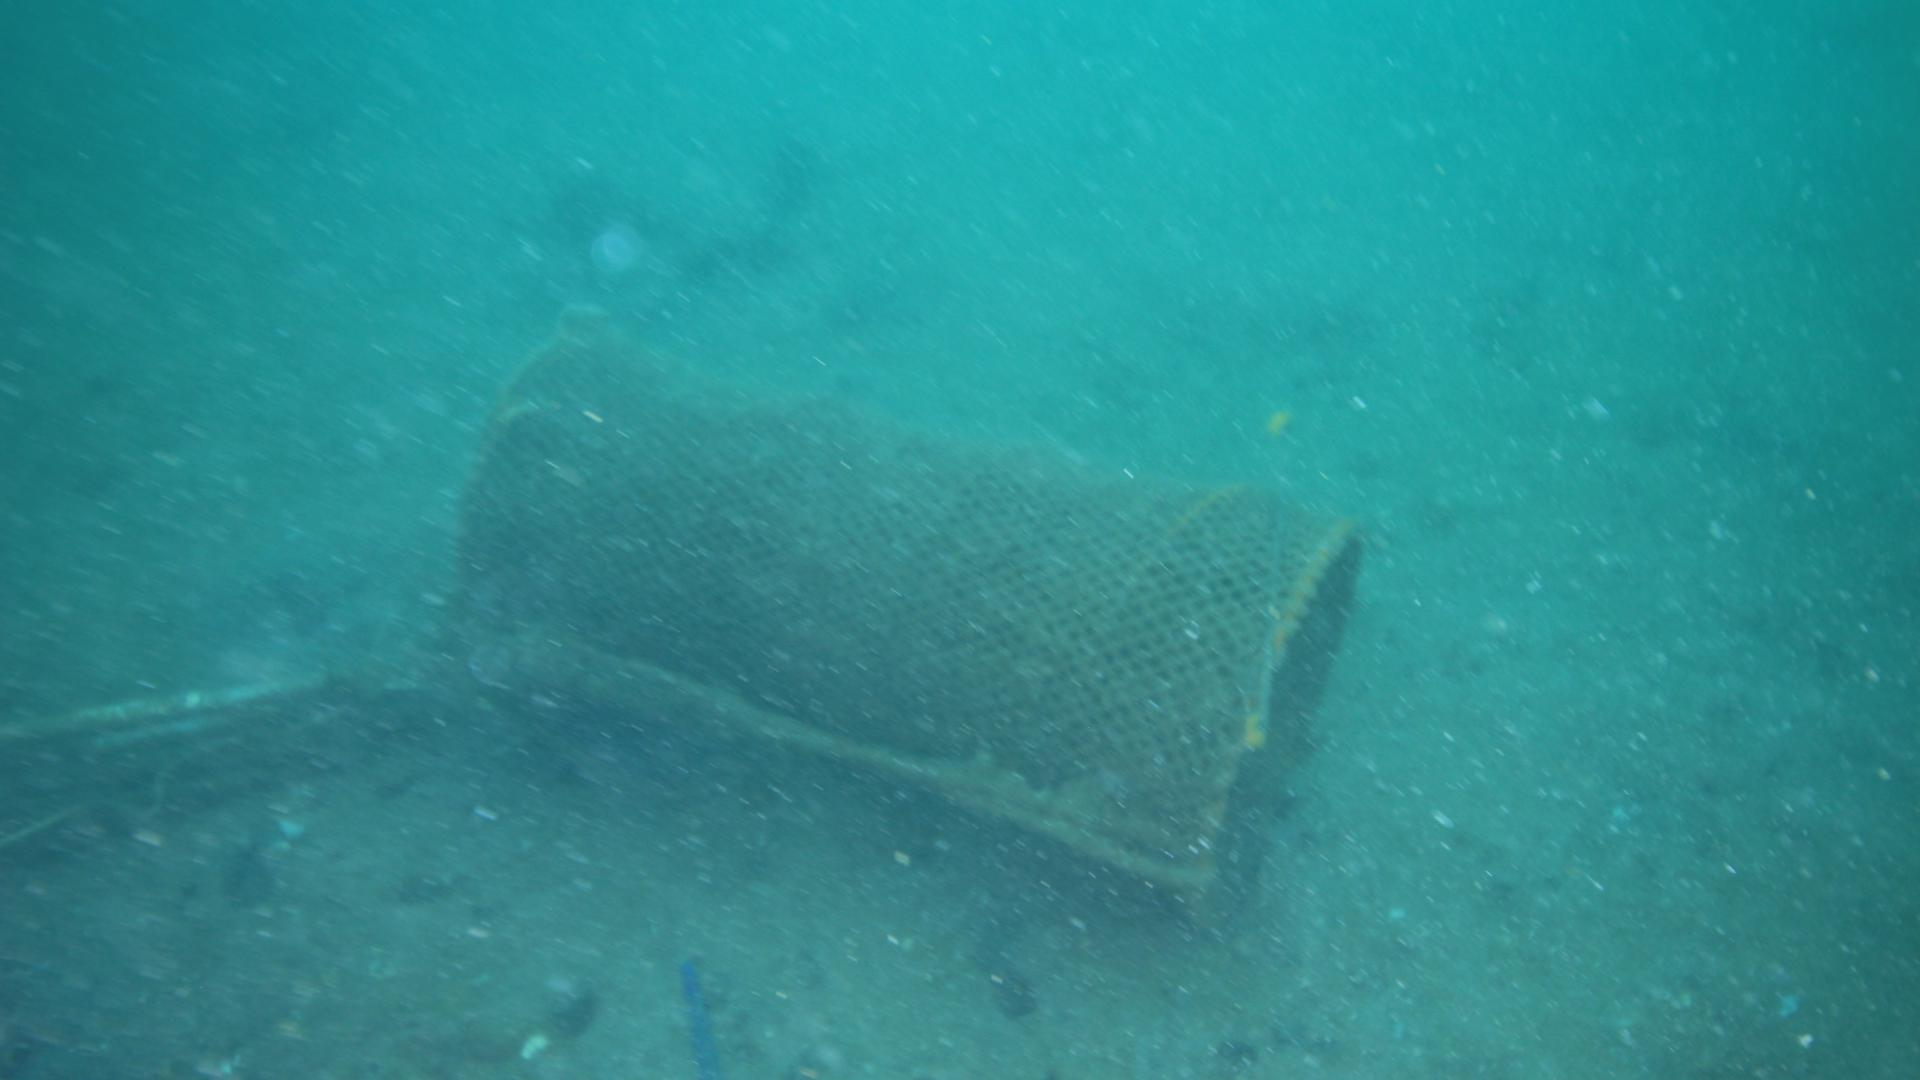spring fish trap: (452, 340, 1360, 914)
